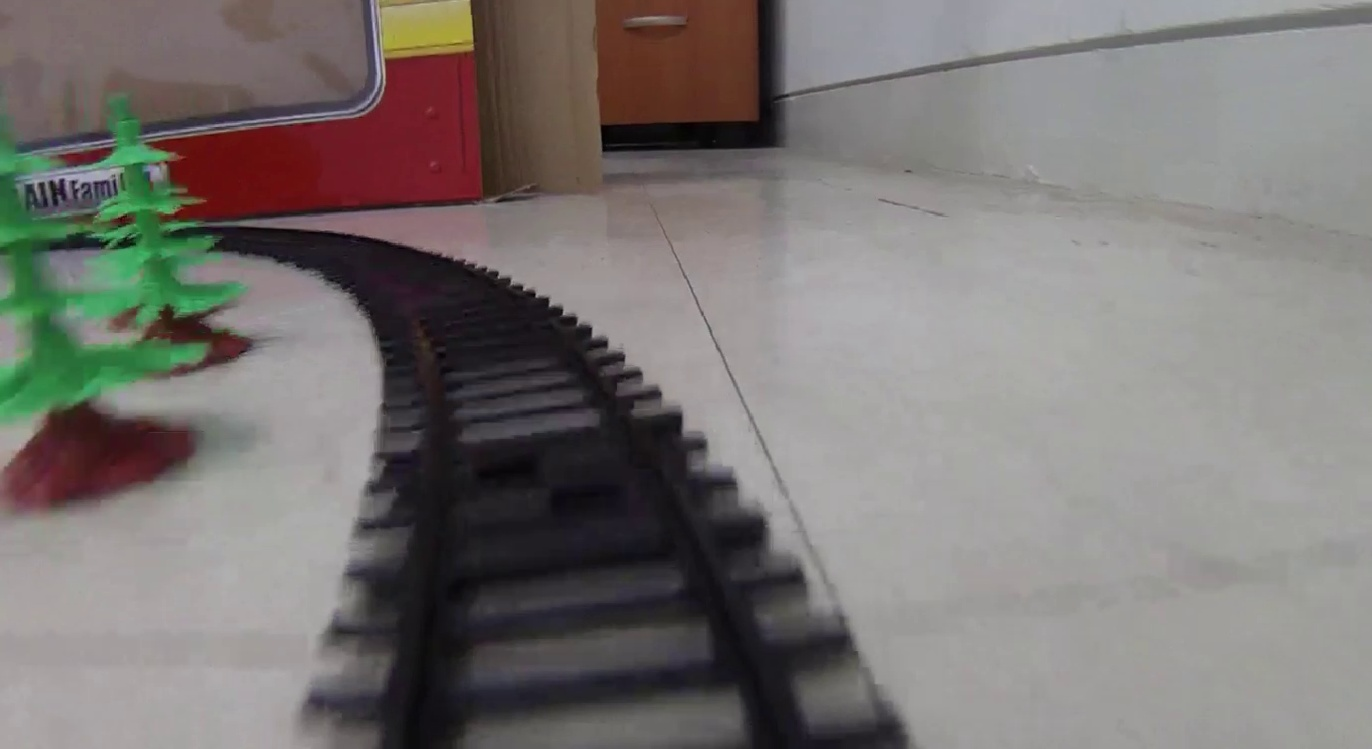tree: (2, 134, 192, 482), (82, 99, 250, 370)
